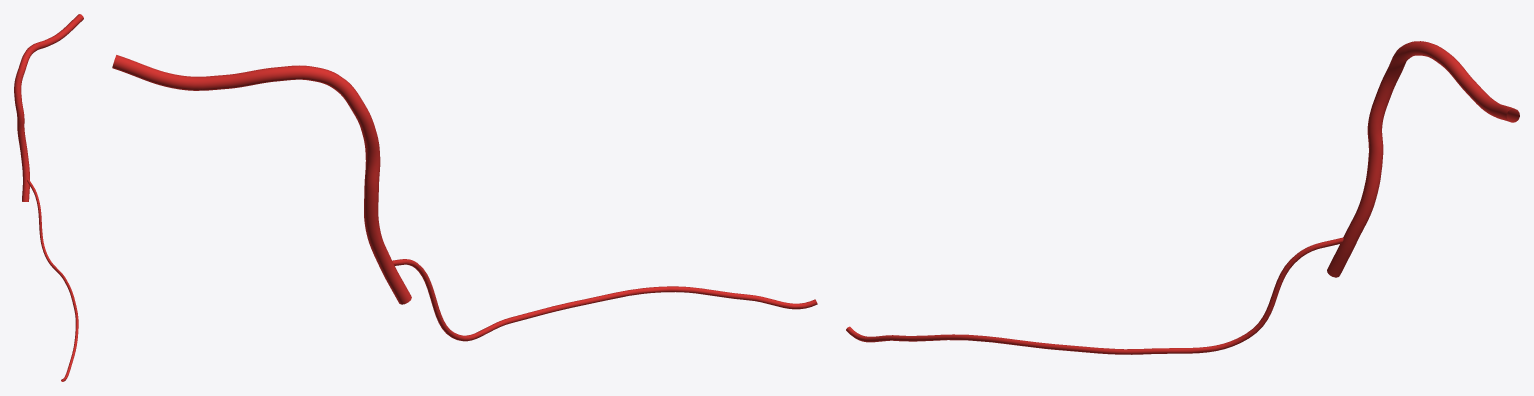
File: circulatorio-descending-palatine-artery-l.glb
3 renders of one model, left to right at view 1: azimuth 30°, elevation 25°; view 2: azimuth 150°, elevation 25°; view 3: azimuth 270°, elevation 25°, orthographic. The views are drawn at different scales.
Visible parts, largest first — view 1: Descending palatine artery.l, Greater palatine artery.l; view 2: Descending palatine artery.l, Greater palatine artery.l; view 3: Descending palatine artery.l, Greater palatine artery.l.
Part boxes in pixels (x1,y1,x2,y2): Descending palatine artery.l: (14, 14, 83, 201); Greater palatine artery.l: (27, 179, 78, 381); Descending palatine artery.l: (112, 55, 411, 304); Greater palatine artery.l: (392, 259, 817, 341); Descending palatine artery.l: (1327, 41, 1519, 277); Greater palatine artery.l: (846, 237, 1343, 354).
Bounding box in the file's own units: 0.0299 × 0.031 × 0.0467.
